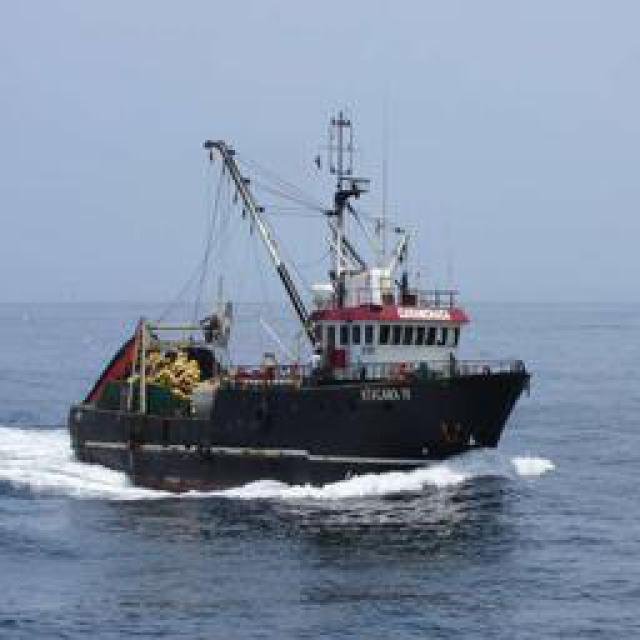Ship: (74, 95, 539, 475)
